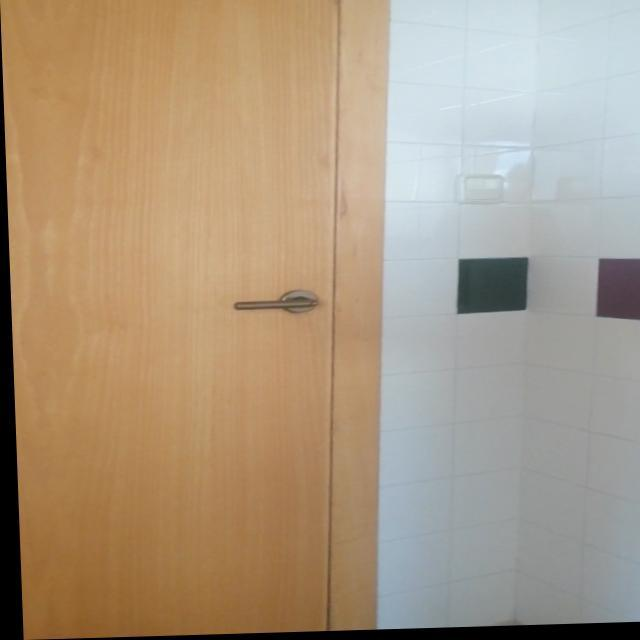door_handle: (228, 296, 318, 313)
